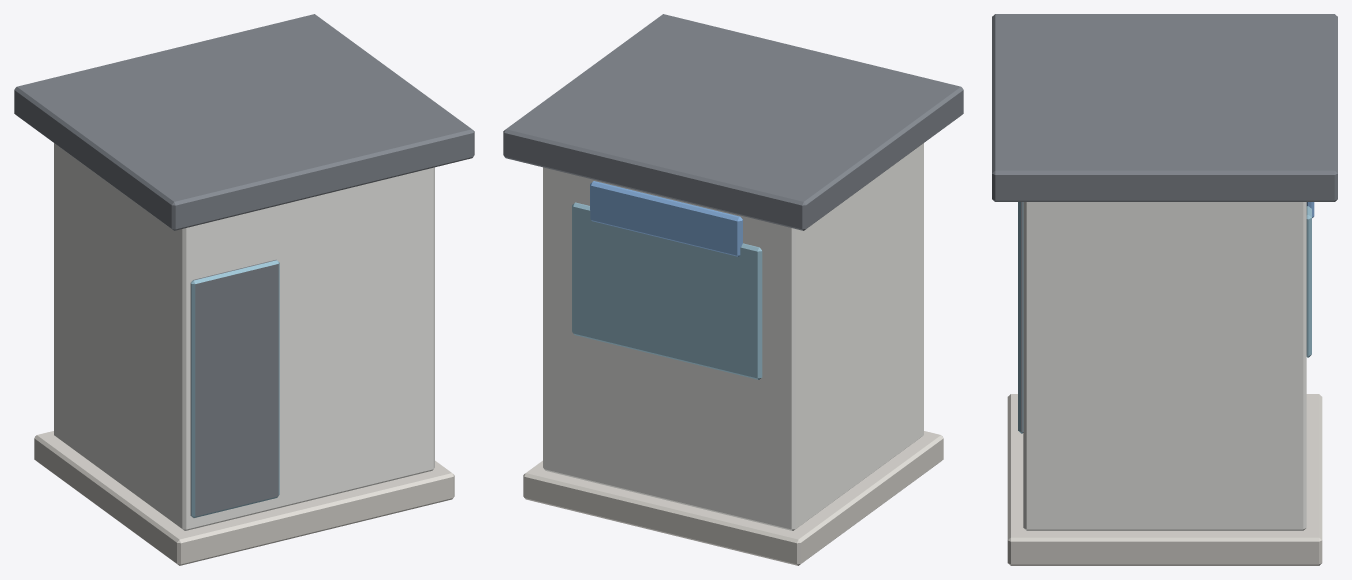
The picture shows the model from 3 angles, left to right: view 1: azimuth 30°, elevation 25°; view 2: azimuth 150°, elevation 25°; view 3: azimuth 270°, elevation 25°; orthographic projection. The views are drawn at different scales.
Parts seen in each view (by area): view 1: 亭体, 顶棚, 门窗, 基座.008; view 2: 亭体, 顶棚, 门窗, 基座.008, 招牌; view 3: 亭体, 顶棚, 基座.008, 门窗.
Boxes of the visible parts, x1,y1,x2,y2 form: 亭体: (54,143,434,530); 顶棚: (14,14,474,230); 门窗: (190,259,279,517); 基座.008: (34,431,454,565); 亭体: (543,143,923,530); 顶棚: (503,14,963,230); 门窗: (572,202,762,379); 基座.008: (523,431,943,565); 招牌: (590,181,742,256); 亭体: (1023,202,1306,530); 顶棚: (992,14,1337,201); 基座.008: (1007,394,1322,565); 门窗: (1018,202,1311,433).
Size of the model in its own units: 240 by 282 by 220.
